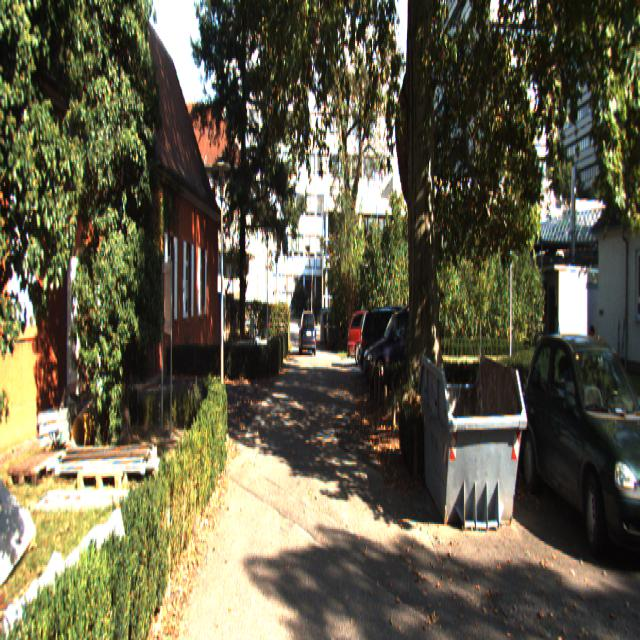Car: (518, 322, 639, 578), (361, 303, 440, 393), (359, 304, 427, 382), (348, 306, 401, 368), (300, 309, 317, 355)
